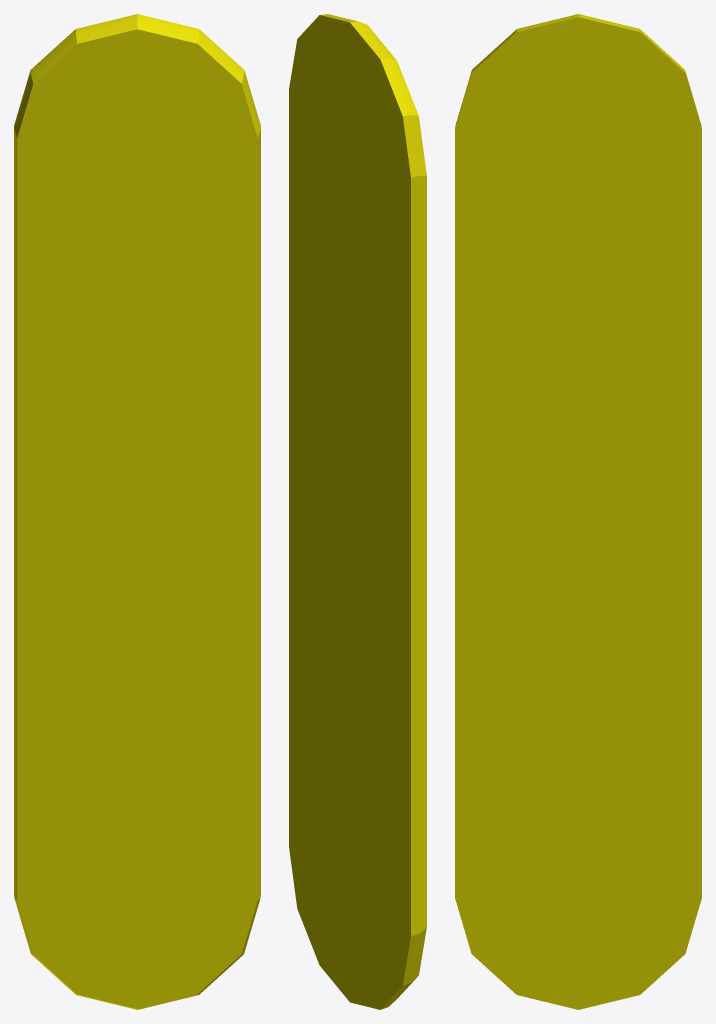
File: Window_A_Handle_01.fbx
3 renders of one model, left to right at view 1: azimuth 90°, elevation 25°; view 2: azimuth 210°, elevation 25°; view 3: azimuth 270°, elevation 25°, orthographic.
Visible parts, largest first — view 1: Window_A_Handle_01; view 2: Window_A_Handle_01; view 3: Window_A_Handle_01.
Boxes of the visible parts, x1,y1,x2,y2 form: Window_A_Handle_01: [14, 14, 260, 1009]; Window_A_Handle_01: [289, 14, 426, 1009]; Window_A_Handle_01: [455, 14, 701, 1009].
Size of the model in its own units: 0.5903 by 31.53 by 7.11.
